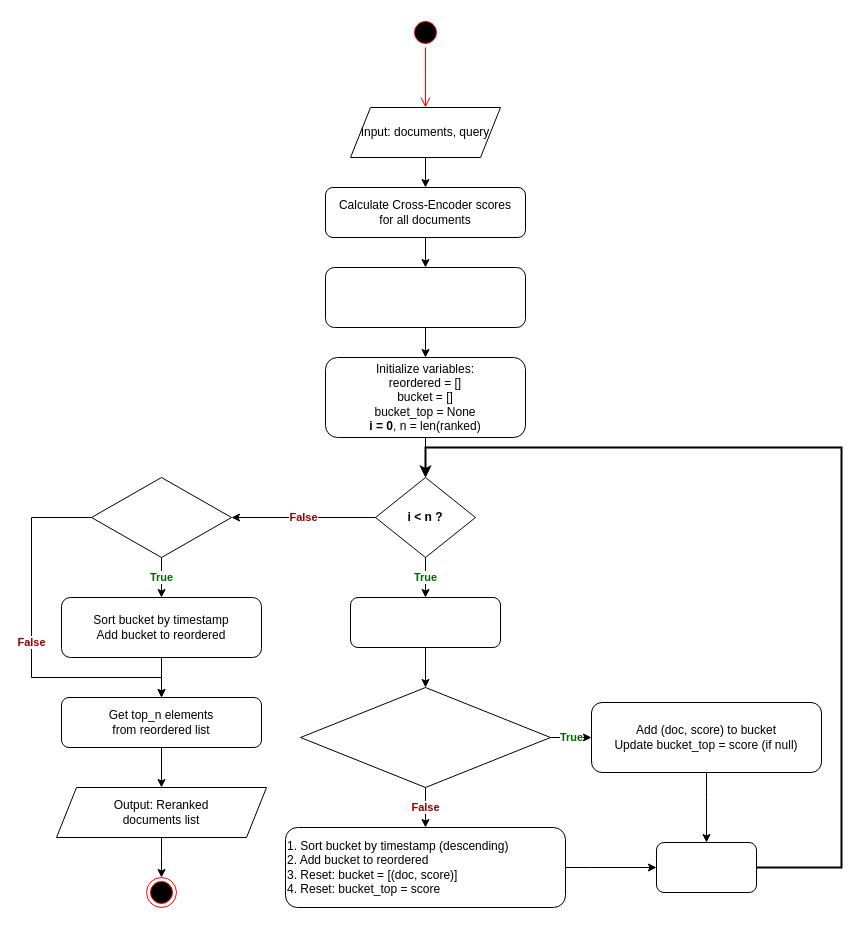
This 867x925 diagram has some shape labels left out. The shapes that lost their labels are listed below. From the top down, each one's centre as x and y in pixels, then its label:
At point (425, 297): "Sort list ranked: By score (descending) and By timestamp (descending)".
At point (161, 517): "Is bucket not empty?".
At point (425, 622): "Get current element: doc, score = ranked[i]".
At point (425, 737): "bucket_top is None OR (bucket_top - score) <= 0.05?".
At point (706, 867): "i = i + 1".
